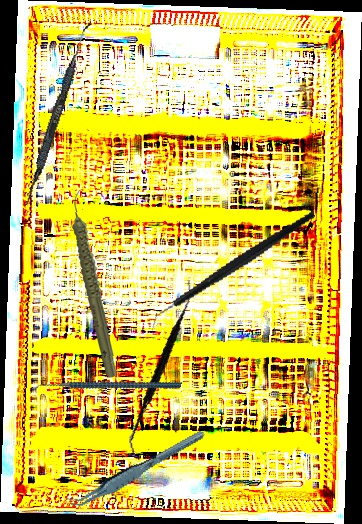Chopper: (134, 210, 332, 332), (29, 336, 183, 441)
Handpiece: (64, 190, 126, 378)
Spatula Surgical: (101, 279, 223, 459), (23, 18, 91, 209)
Tissue Forceps: (59, 429, 213, 512)
